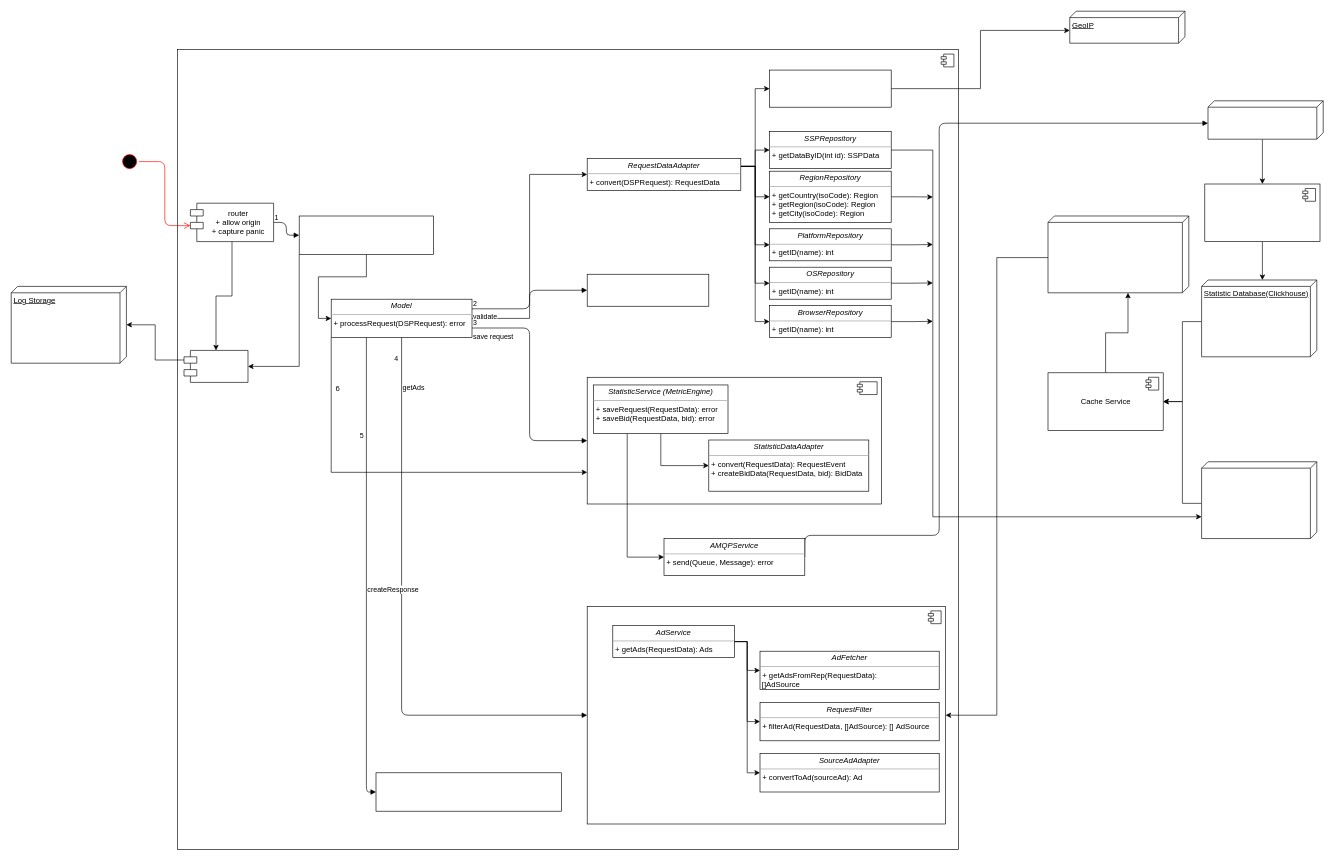
This 1334x861 diagram has some shape labels left out. The centre of each missing label's shape, as x and y in pixels:
"Broker" goes at point 1265,119.
"Cache Storage + adData: key:unit_id:platform_id:region_id" goes at point 1118,254.
"Controller + process(Request, Response): void" goes at point 366,234.
"Geo2IPService + getGeoData(ip)" goes at point 830,88.
"Log Service" goes at point 215,366.
"Relational Database(Mysql)" goes at point 1259,500.
"ResponseAdapter + createResponse(RequestData, Ad): DSPResponse" goes at point 468,791.
"Statistic Service(Golang)" goes at point 1262,212.
"Validator + validate(RequestData): error" goes at point 648,290.
